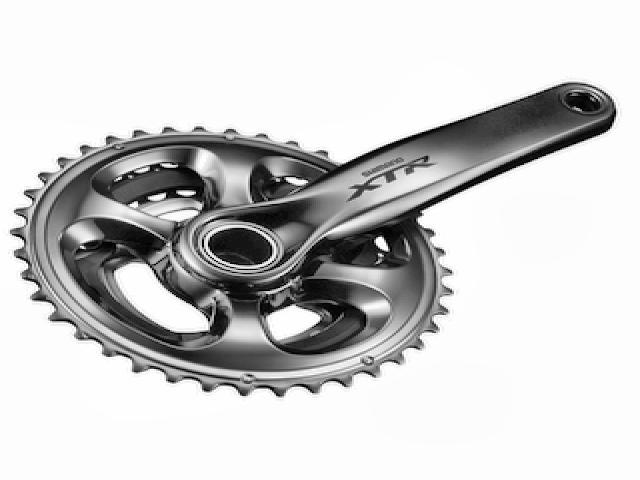cranks_set: (11, 80, 621, 398)
